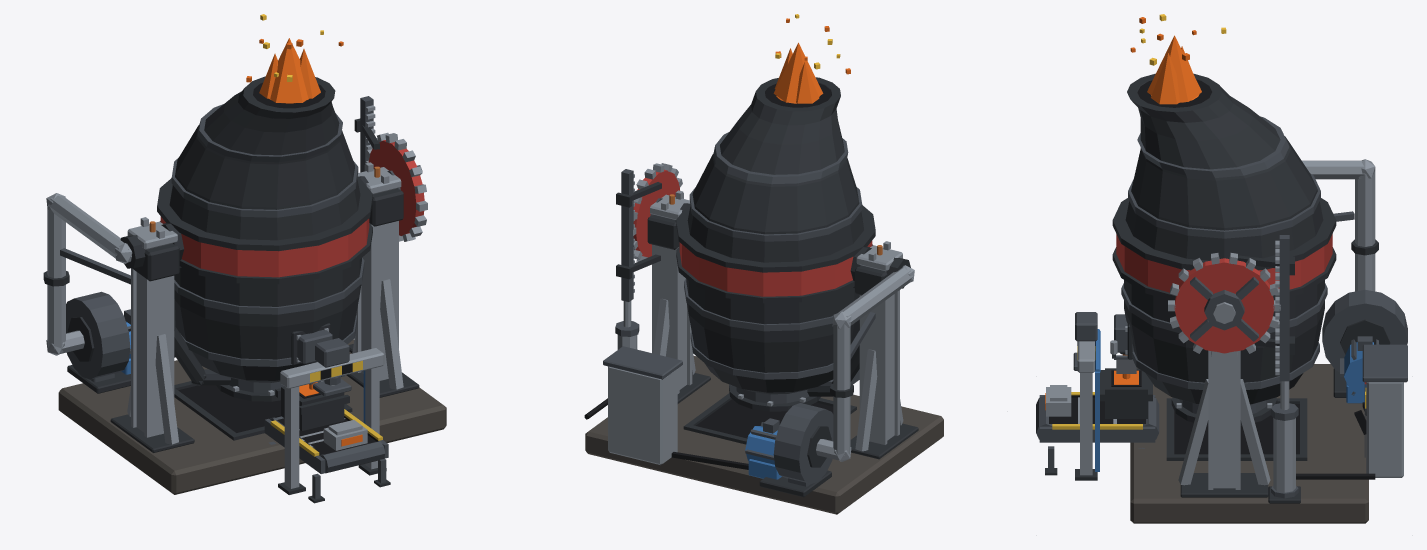
The model's file is convertisseur_t2.glb.
3 renders of one model, left to right at view 1: azimuth 30°, elevation 25°; view 2: azimuth 150°, elevation 25°; view 3: azimuth 270°, elevation 25°, orthographic. The views are drawn at different scales.
Parts seen in each view (by area): view 1: cornue_corps.002, pieces_acier.004, socle.004, pieces_fonte.007, pieces_acier_sombre.007, cornue_ceinture.002, soufflante_volute.002, cornue_ceinture_bord_0.002, fosse.002, cornue_rouge.002, cornue_cercle_2.004, cornue_cercle_1.002 (+12 smaller); view 2: cornue_corps.002, pieces_acier.004, socle.004, armoire.002, pieces_fonte.007, cornue_ceinture.002, soufflante_volute.002, cornue_ceinture_bord_0.002, pieces_acier_sombre.007, cornue_levre.002, fosse.002, cornue_cercle_2.004 (+16 smaller); view 3: cornue_corps.002, socle.004, pieces_acier.004, pieces_acier_sombre.007, cornue_rouge.002, pieces_fonte.007, armoire.002, soufflante_volute.002, cornue_ceinture.002, cornue_ceinture_bord_0.002, cornue_levre.002, cornue_acier.002 (+19 smaller).
Part boxes in pixels (<box>): cornue_corps.002: <box>169,82,361,382</box>; pieces_acier.004: <box>46,105,403,488</box>; socle.004: <box>58,339,446,494</box>; pieces_fonte.007: <box>43,118,419,503</box>; pieces_acier_sombre.007: <box>60,96,388,499</box>; cornue_ceinture.002: <box>160,216,369,277</box>; soufflante_volute.002: <box>66,291,130,379</box>; cornue_ceinture_bord_0.002: <box>157,176,372,251</box>; fosse.002: <box>178,385,280,432</box>; cornue_rouge.002: <box>368,140,424,235</box>; cornue_cercle_2.004: <box>171,157,358,217</box>; cornue_cercle_1.002: <box>174,258,364,314</box>; cornue_corps.002: <box>686,88,863,394</box>; pieces_acier.004: <box>617,174,914,461</box>; socle.004: <box>585,356,943,514</box>; armoire.002: <box>608,366,677,464</box>; pieces_fonte.007: <box>616,182,918,497</box>; cornue_ceinture.002: <box>679,241,872,296</box>; soufflante_volute.002: <box>773,403,833,483</box>; cornue_ceinture_bord_0.002: <box>676,203,875,272</box>; pieces_acier_sombre.007: <box>615,169,875,486</box>; cornue_levre.002: <box>751,77,840,125</box>; fosse.002: <box>696,399,833,438</box>; cornue_cercle_2.004: <box>689,187,862,241</box>; cornue_corps.002: <box>1124,79,1324,404</box>; socle.004: <box>1130,364,1368,523</box>; pieces_acier.004: <box>1077,159,1375,492</box>; pieces_acier_sombre.007: <box>1036,211,1378,498</box>; cornue_rouge.002: <box>1174,258,1274,353</box>; pieces_fonte.007: <box>1045,239,1378,503</box>; armoire.002: <box>1366,382,1403,477</box>; soufflante_volute.002: <box>1322,289,1407,372</box>; cornue_ceinture.002: <box>1116,234,1332,292</box>; cornue_ceinture_bord_0.002: <box>1112,198,1336,270</box>; cornue_levre.002: <box>1127,73,1233,122</box>; cornue_acier.002: <box>1168,253,1280,408</box>.
Size of the model in its own units: 1.5 by 1.91 by 1.5.
